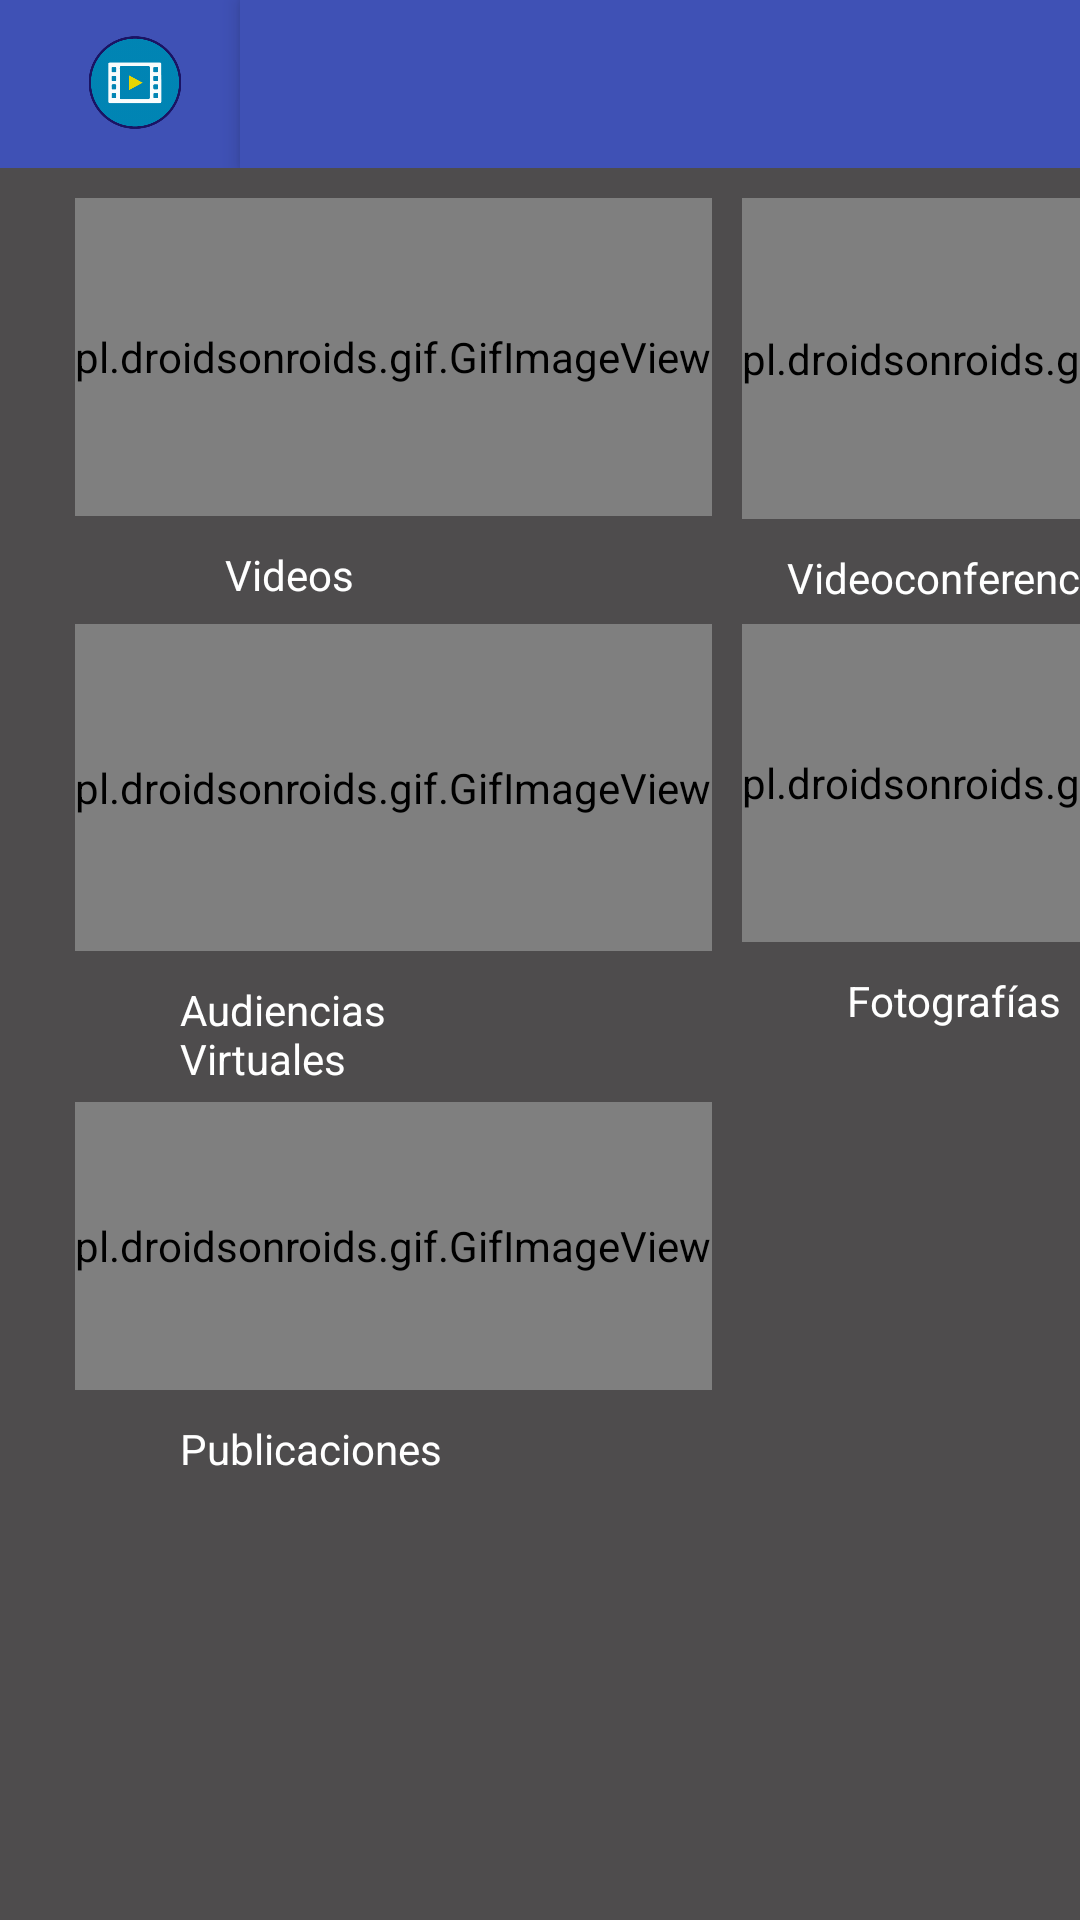

Named icons in this screenshot (1080x1920) and their centers, (x,y):
videoteca: (135,82)
